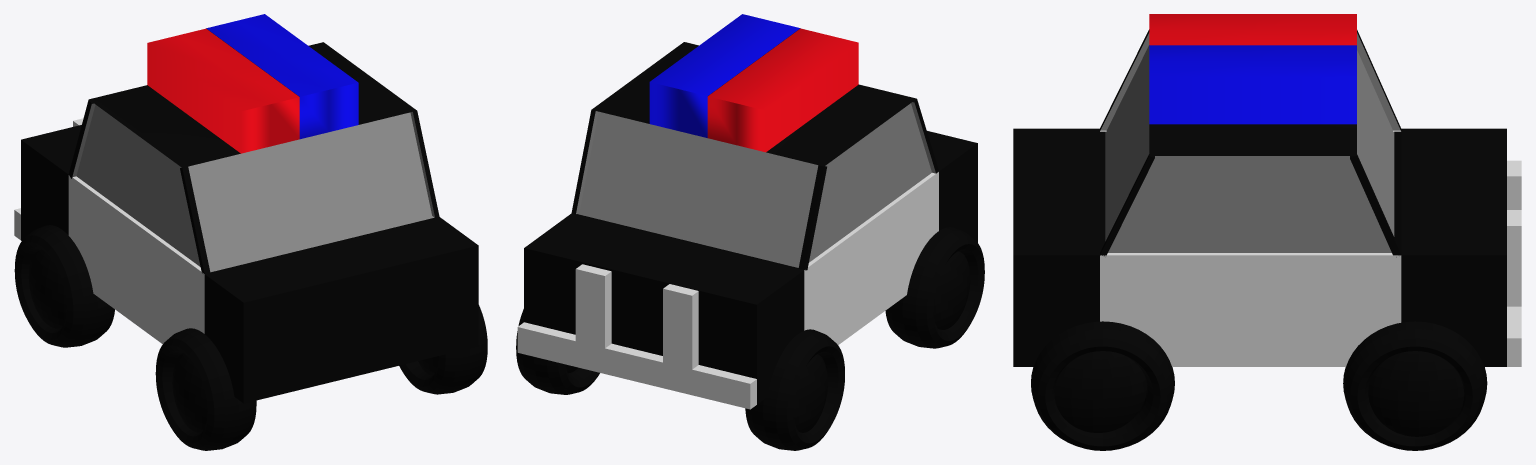
File: Auto policial.fbx
3 renders of one model, left to right at view 1: azimuth 30°, elevation 25°; view 2: azimuth 150°, elevation 25°; view 3: azimuth 270°, elevation 25°, orthographic. The views are drawn at different scales.
Visible parts, largest first — view 1: Cube.001, Rosca.003, Rosca.002, Rosca, Esfera, Esfera.001; view 2: Cube.001, Rosca.002, Rosca.003, Rosca.001, Esfera.001, Esfera; view 3: Cube.001, Rosca, Rosca.001, Esfera.003, Esfera.004.
Part boxes in pixels (left/top/right/bottom): Cube.001: left=14, top=14, right=478, bottom=403; Rosca.003: left=155, top=328, right=256, bottom=450; Rosca.002: left=14, top=225, right=114, bottom=347; Rosca: left=399, top=305, right=487, bottom=394; Esfera: left=28, top=249, right=66, bottom=328; Esfera.001: left=172, top=353, right=207, bottom=432; Cube.001: left=517, top=14, right=977, bottom=409; Rosca.002: left=745, top=329, right=844, bottom=450; Rosca.003: left=885, top=227, right=984, bottom=348; Rosca.001: left=516, top=309, right=599, bottom=394; Esfera.001: left=933, top=251, right=970, bottom=329; Esfera: left=793, top=354, right=827, bottom=432; Cube.001: left=1013, top=14, right=1521, bottom=366; Rosca: left=1031, top=321, right=1174, bottom=450; Rosca.001: left=1343, top=321, right=1487, bottom=450; Esfera.003: left=1368, top=351, right=1464, bottom=436; Esfera.004: left=1054, top=351, right=1146, bottom=432.
Bounding box in the file's own units: 242 × 248 × 338.
